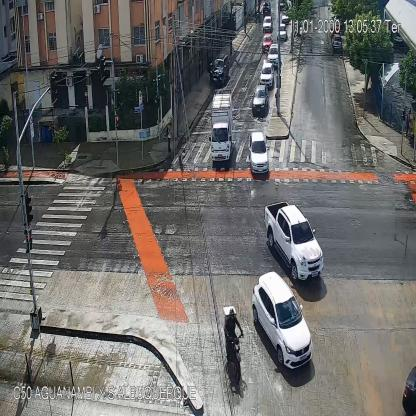car: (253, 271, 312, 369), (264, 202, 325, 282), (247, 133, 270, 177), (209, 54, 228, 84), (252, 84, 269, 116), (267, 44, 281, 67), (260, 62, 272, 88), (262, 34, 272, 52), (333, 34, 342, 51), (262, 15, 270, 32), (278, 25, 286, 42), (263, 2, 271, 14), (282, 12, 289, 24)
motorbike: (221, 304, 244, 385)
person: (166, 122, 172, 154), (406, 109, 411, 137), (248, 8, 252, 21)
truck: (209, 94, 231, 162)
